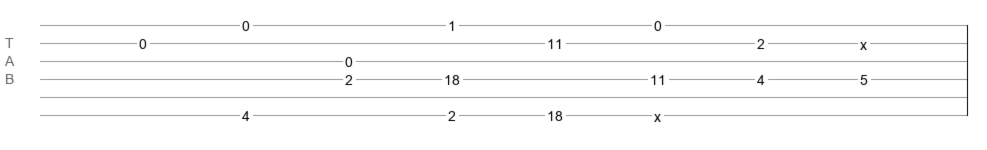0: (139, 36, 147, 46), (242, 18, 250, 28), (345, 54, 353, 64), (654, 18, 662, 28)
1: (448, 18, 456, 28)
11: (547, 36, 563, 46), (650, 72, 666, 82)
18: (444, 72, 460, 82), (547, 108, 563, 118)
2: (345, 72, 353, 82), (448, 108, 456, 118), (757, 36, 765, 46)
4: (242, 108, 250, 118), (757, 72, 765, 82)
5: (860, 72, 868, 82)
x: (654, 109, 661, 117), (860, 37, 867, 45)
